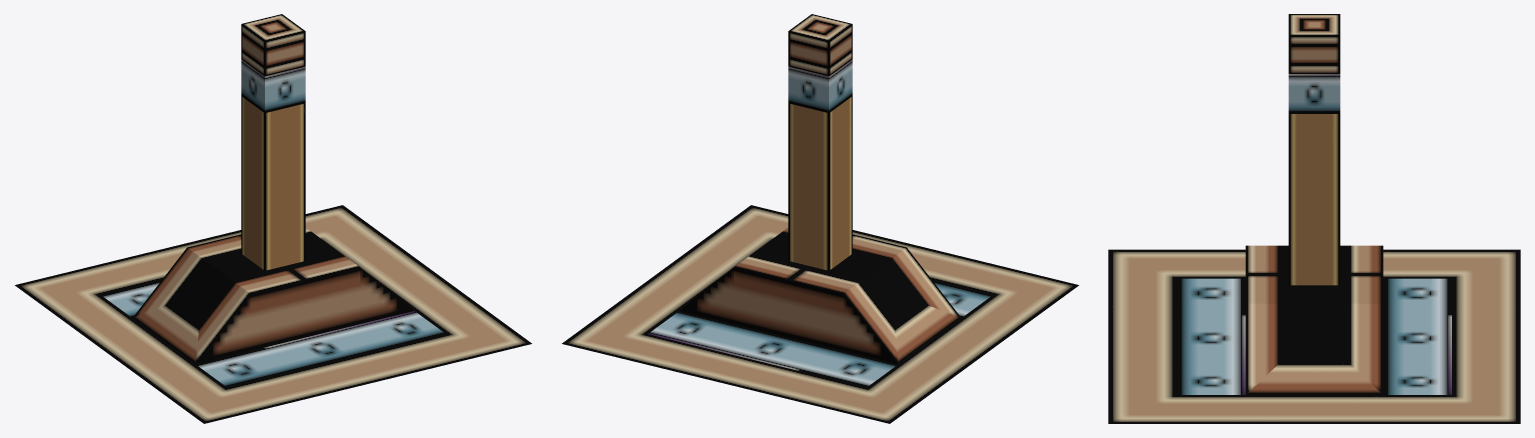
Rendered from deco_lever_2.FBX.
3 views of the same model, side by side, from view 1: azimuth 30°, elevation 25°; view 2: azimuth 150°, elevation 25°; view 3: azimuth 270°, elevation 25° (orthographic). The views are drawn at different scales.
Visible parts, largest first — view 1: deco_lever_2; view 2: deco_lever_2; view 3: deco_lever_2.
Boxes of the visible parts, bbox=[...] form: deco_lever_2: bbox=[15, 14, 531, 423]; deco_lever_2: bbox=[562, 14, 1078, 423]; deco_lever_2: bbox=[1108, 14, 1520, 423].
Bounding box in the file's own units: 1.5 × 1.33 × 1.5.
1 material, 1 textured.
